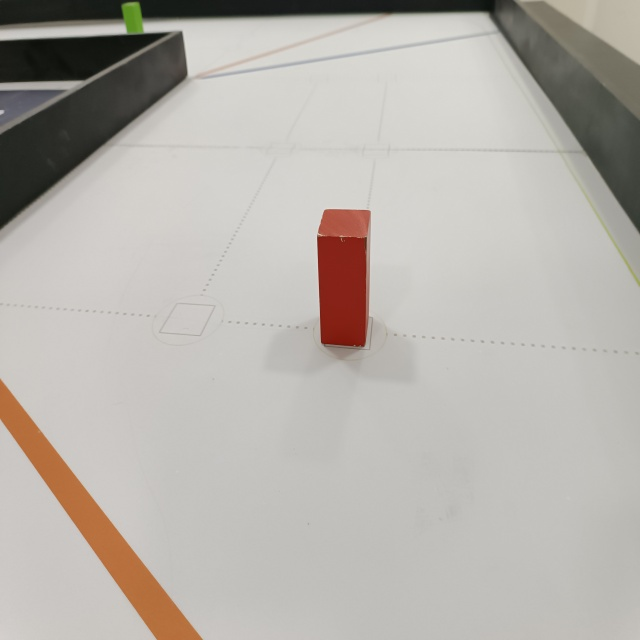blue line: (188, 29, 506, 80)
green rectangular prism: (123, 0, 145, 35)
orange line: (0, 377, 202, 640), (189, 7, 392, 80)
red rectangular prism: (312, 206, 375, 355)
